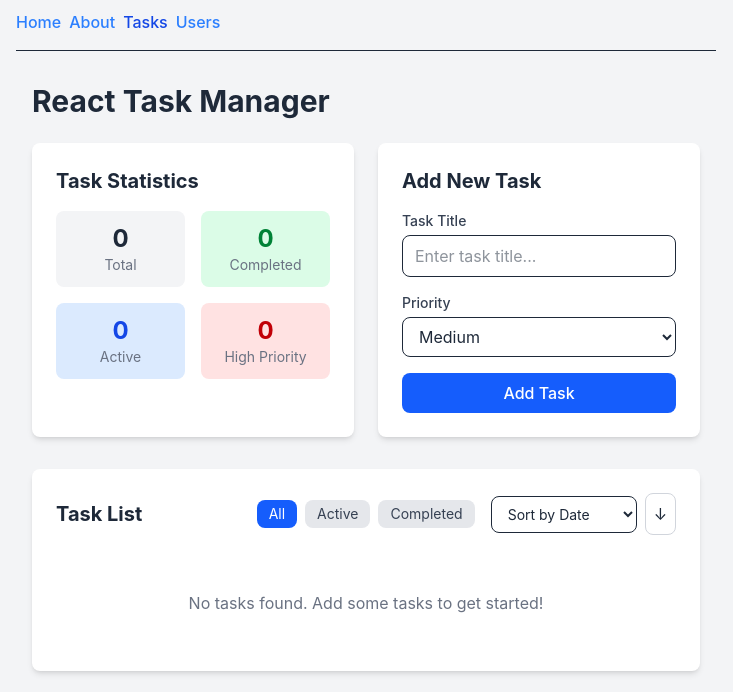
Test: TaskPage › 統計情報 › タスク統計が正しく表示される
Expected: the heading "Task Statistics" is shown, [56, 169, 199, 193]
In the field labelled "Task Title": (539, 256) [402, 235, 676, 277], type "タスク1"
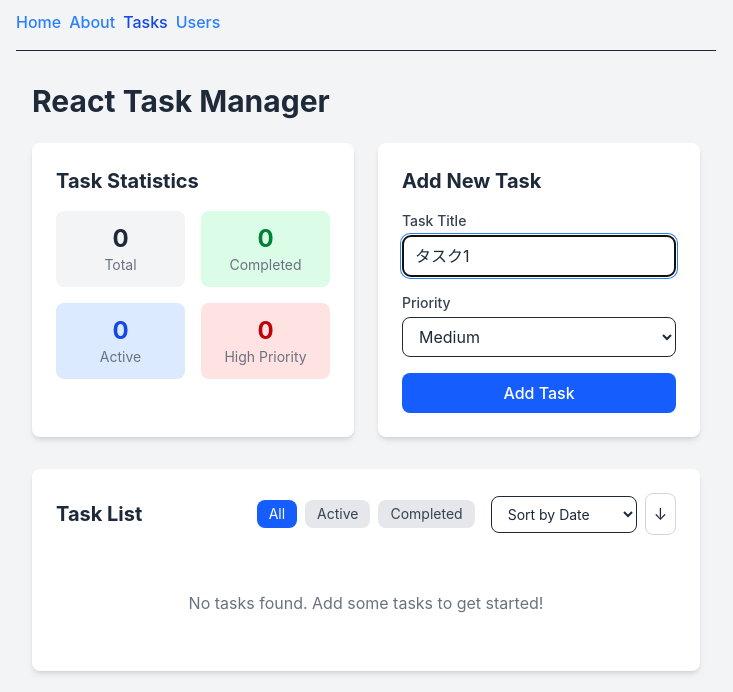
Click the button "Add Task": (539, 393) [402, 373, 676, 413]
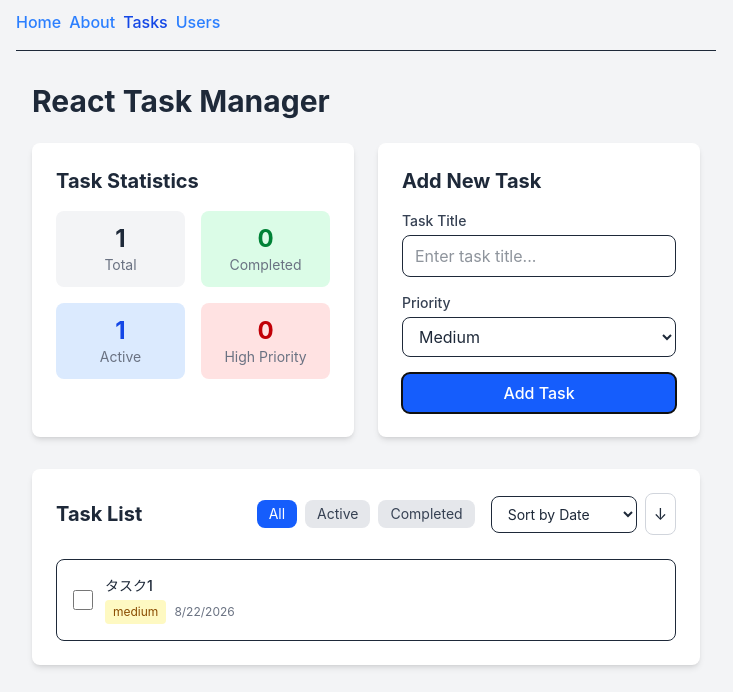
Expected: the 1st text "1" is shown, [115, 224, 126, 253]
